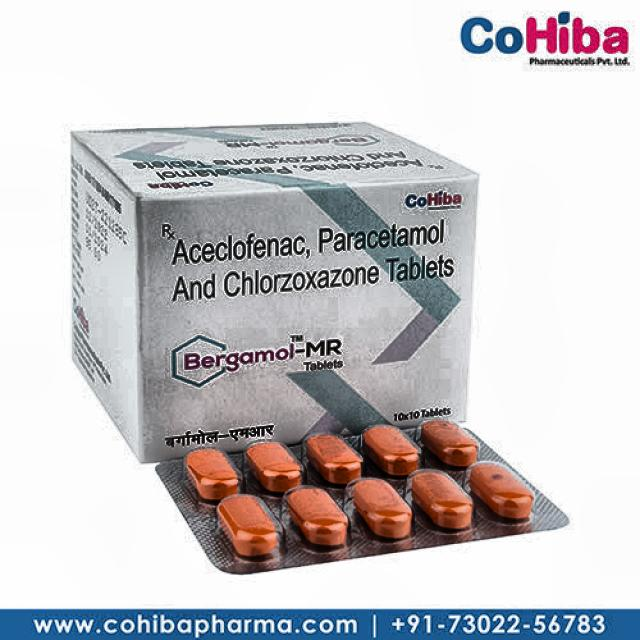Paracetamol: (153, 214, 470, 304)
